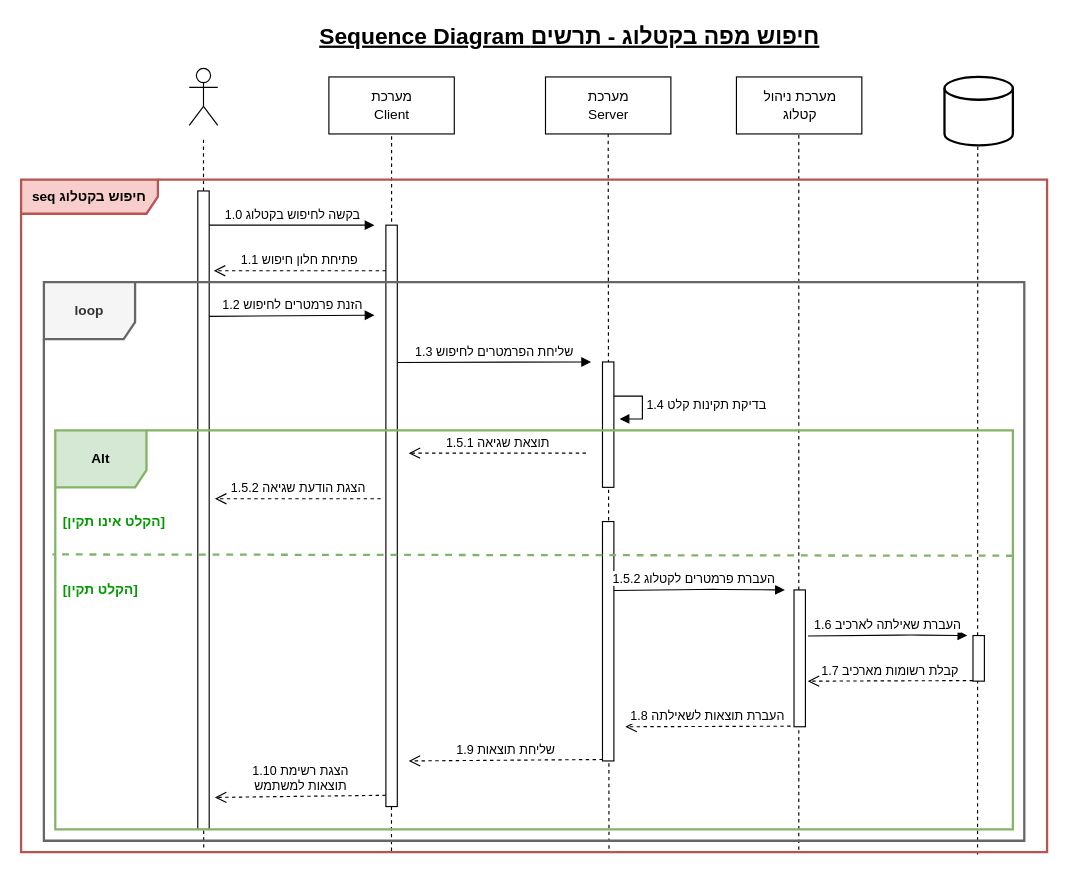
The diagram is 1067 pixels wide and 876 high, and some of its shapes have lost their labels. The centre of each missing label's shape, as x and y in pixels:
"User" goes at [203,96].
"ארכיב המידע" goes at [978,110].
